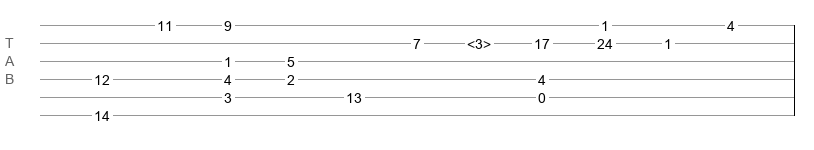0: (538, 90, 546, 100)
1: (224, 54, 232, 64), (601, 18, 609, 28), (664, 36, 672, 46)
11: (157, 18, 173, 28)
12: (94, 72, 110, 82)
13: (346, 90, 362, 100)
14: (94, 108, 110, 118)
17: (534, 36, 550, 46)
2: (287, 72, 295, 82)
24: (597, 36, 613, 46)
3: (224, 90, 232, 100)
4: (224, 72, 232, 82), (538, 72, 546, 82), (727, 18, 735, 28)
5: (287, 54, 295, 64)
7: (413, 36, 421, 46)
9: (224, 18, 232, 28)
harmonic: (467, 36, 491, 46)
